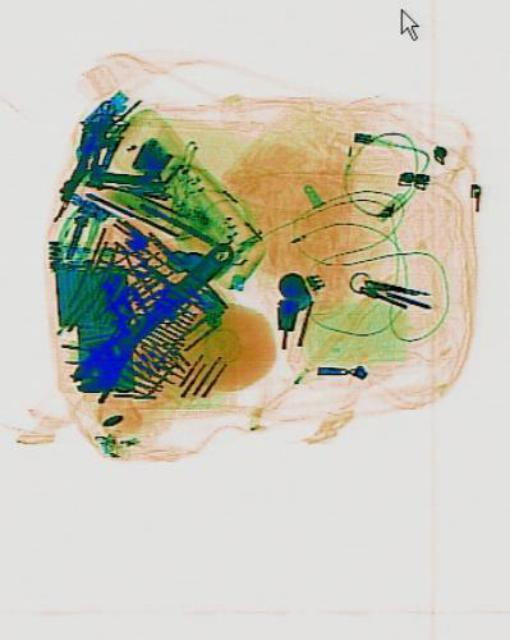Wrench: (63, 227, 240, 406)
